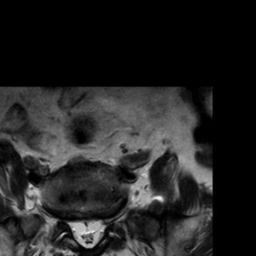CCS_normal: (81, 207, 92, 255)
LFS_stenosis: (105, 205, 113, 234)
LLS_normal: (93, 209, 105, 251)
RFS_severe_stenosis: (59, 207, 68, 233)
RLS_normal: (69, 206, 80, 249)
